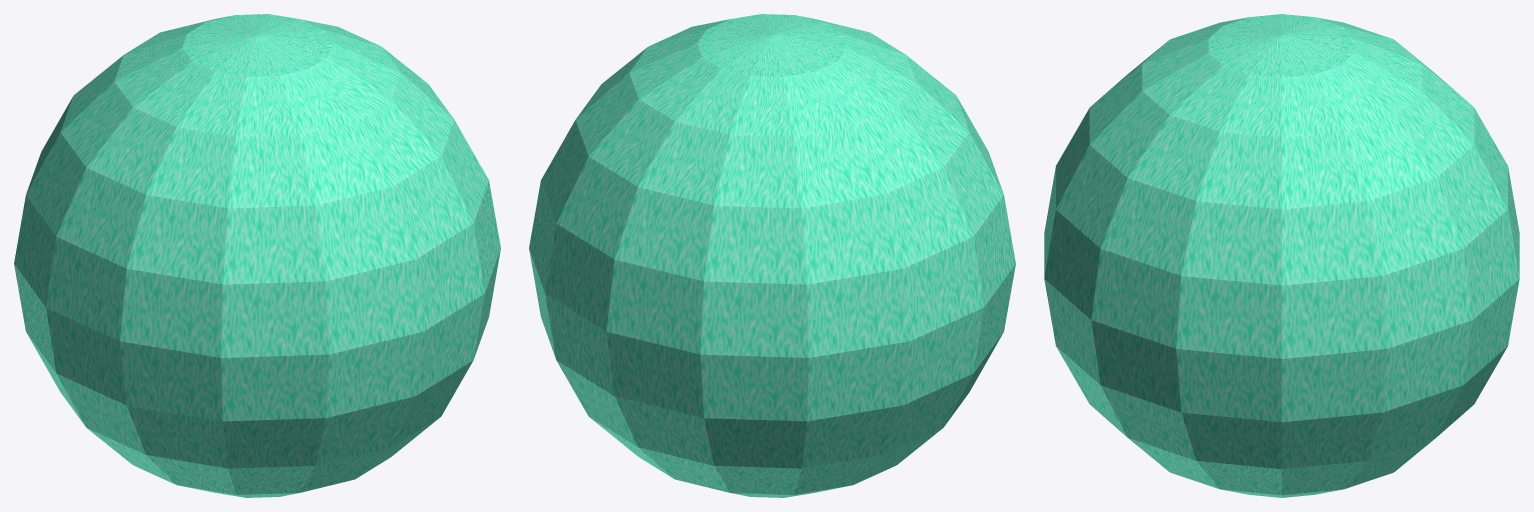
The model's file is shield.obj.
The picture shows the model from 3 angles, left to right: view 1: azimuth 30°, elevation 25°; view 2: azimuth 150°, elevation 25°; view 3: azimuth 270°, elevation 25°; orthographic projection.
Parts seen in each view (by area): view 1: Shield; view 2: Shield; view 3: Shield.
Boxes of the visible parts, x1,y1,x2,y2 form: Shield: (14,14,500,497); Shield: (529,14,1015,497); Shield: (1044,14,1519,497).
Bounding box in the file's own units: 2 × 2 × 1.95.
